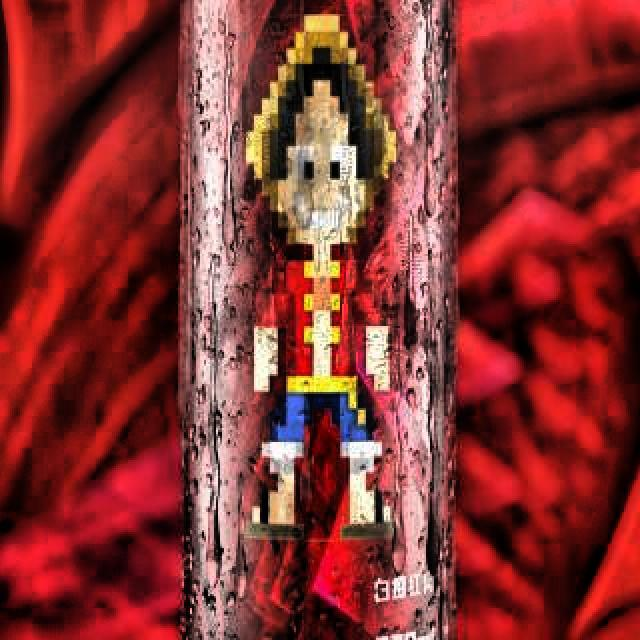metal: (180, 0, 470, 640)
